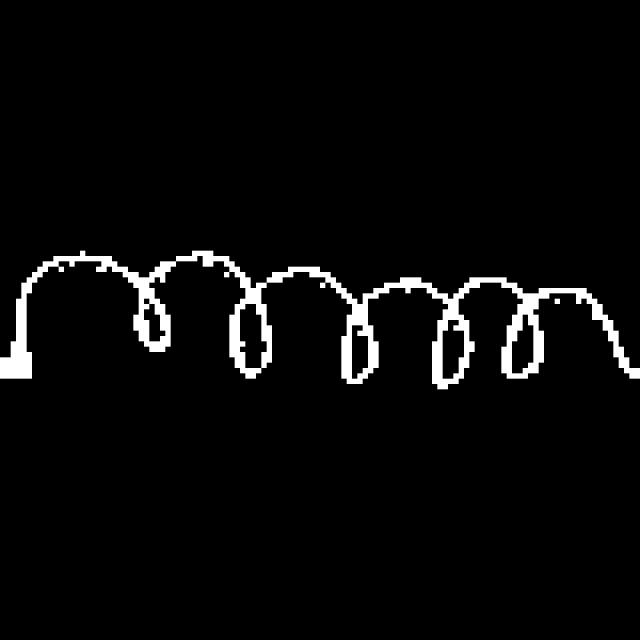inductor: (24, 220, 620, 418)
